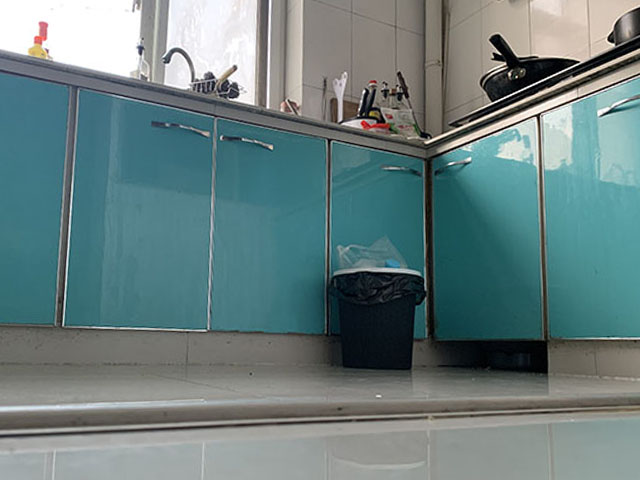cabinet: (1, 48, 430, 366), (434, 42, 640, 372)
trashcan: (328, 267, 428, 372)
